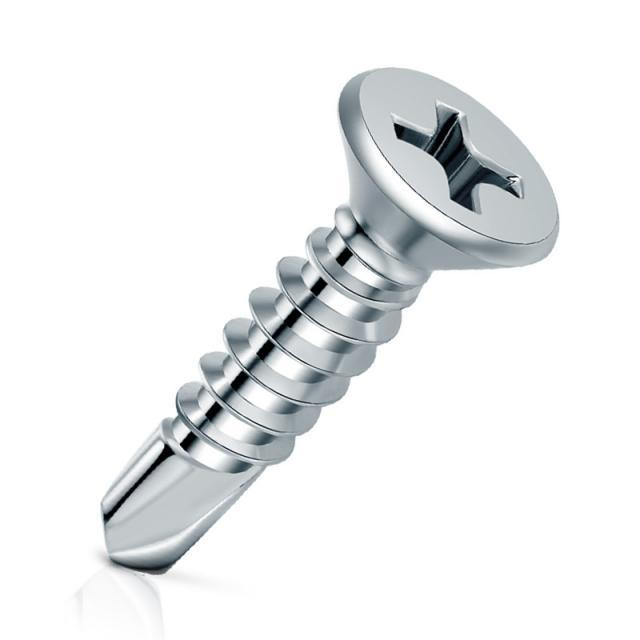Screw: (81, 56, 579, 593)
